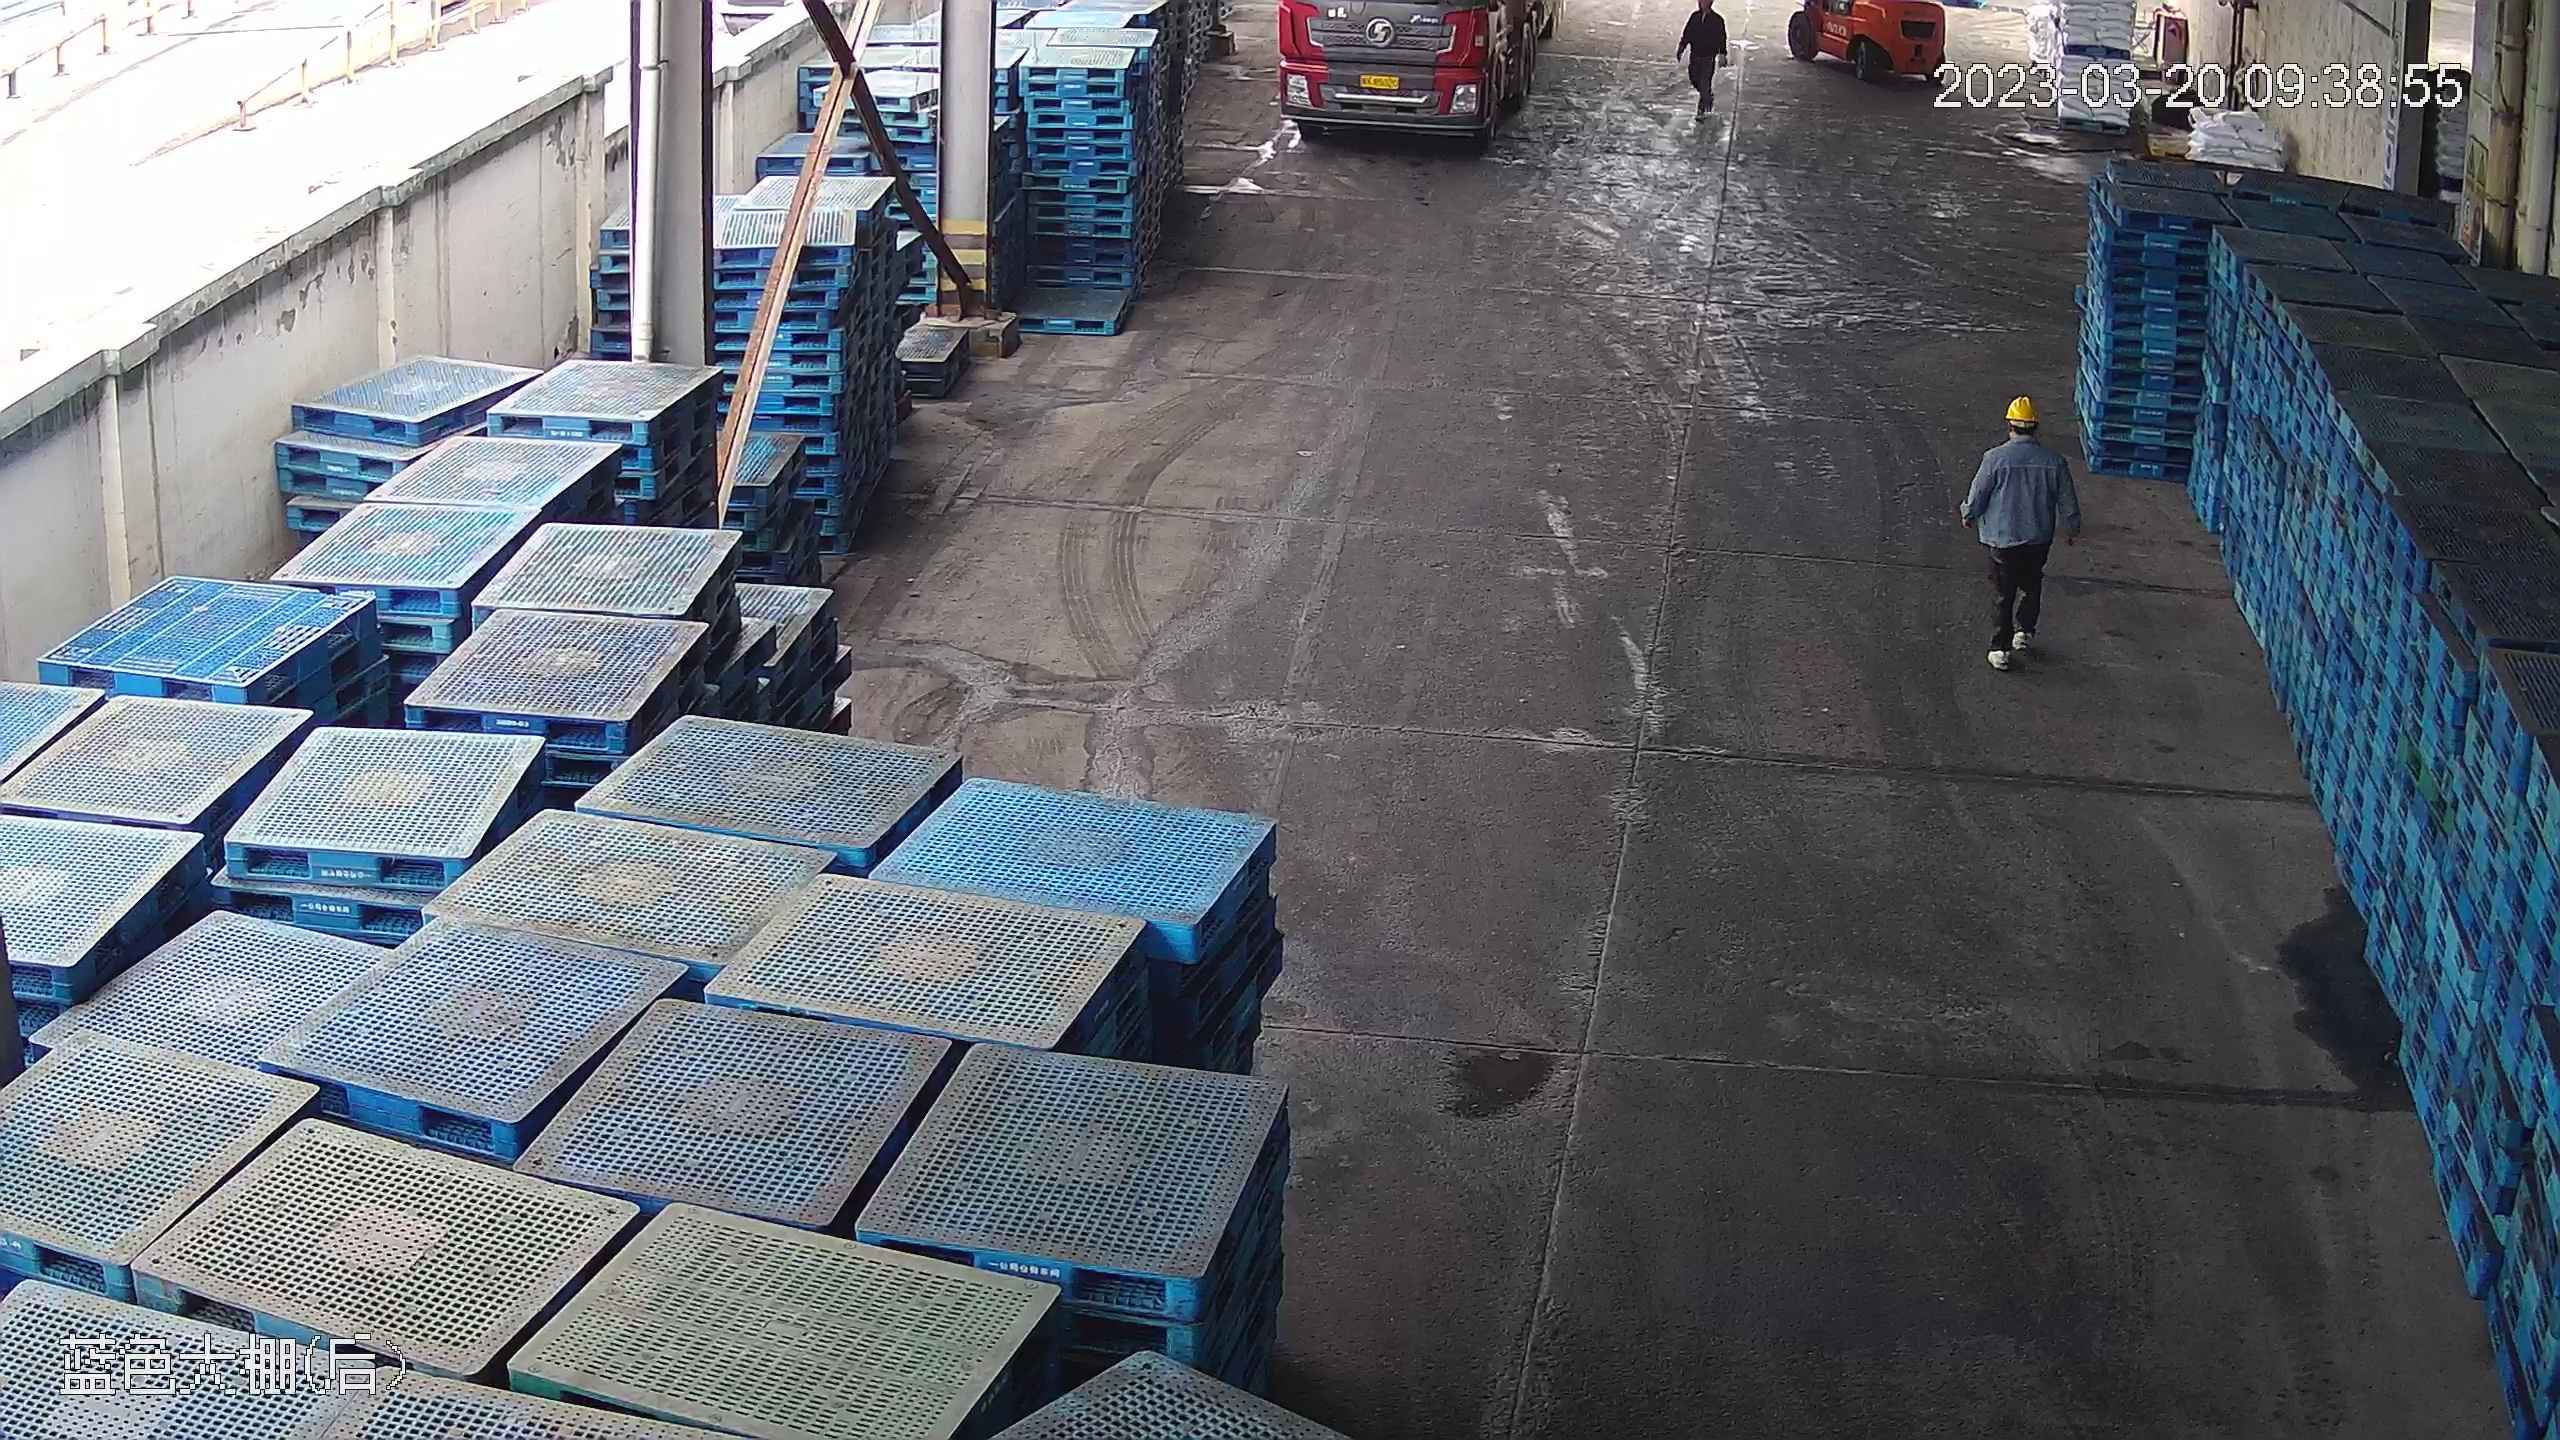head: (1982, 393, 2066, 473)
helmet: (2005, 393, 2042, 422)
people: (1965, 392, 2077, 670), (1676, 1, 1730, 118)
truck: (1277, 4, 1570, 137)
